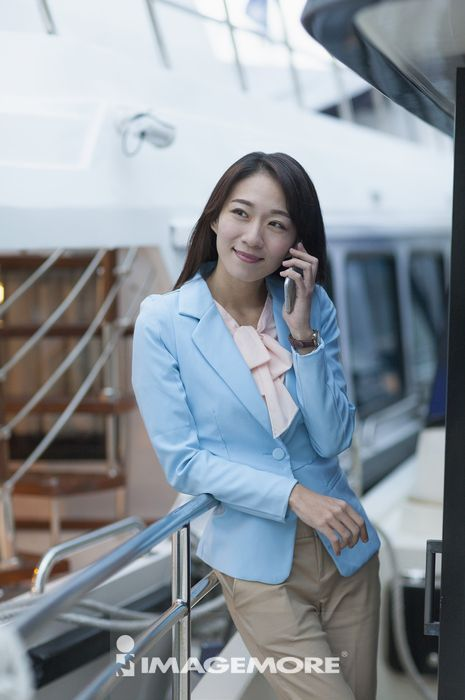phone: (282, 242, 303, 313)
talk: (221, 196, 317, 337)
